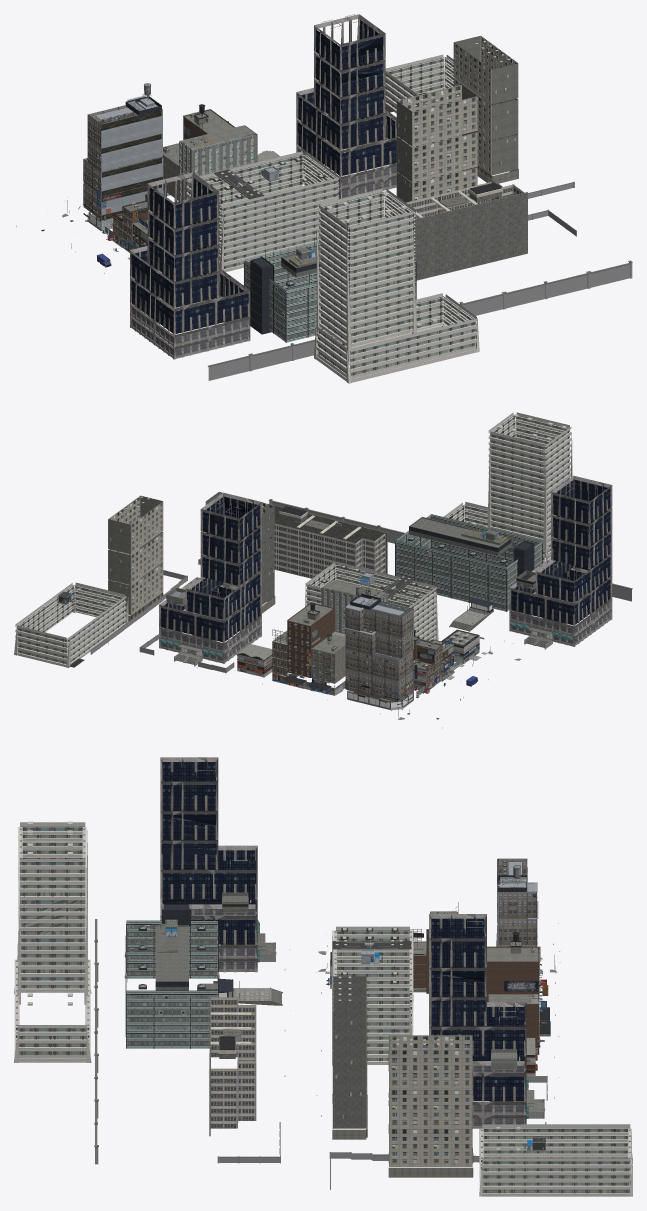
File: block-citya-3.glb
3 views of the same model, one above another, from view 1: azimuth 30°, elevation 25°; view 2: azimuth 150°, elevation 25°; view 3: azimuth 270°, elevation 25° (orthographic). The views are drawn at different scales.
Visible parts, largest first — view 1: Object_143, Object_18, Object_214, Object_94, Object_219, Object_204, Object_175, Object_145, Object_35, Object_79, Object_148, Object_42 (+8 smaller); view 2: Object_143, Object_18, Object_214, Object_35, Object_94, Object_86, Object_204, Object_169, Object_219, Object_52, Object_79, Object_148 (+12 smaller); view 3: Object_143, Object_18, Object_214, Object_219, Object_94, Object_35, Object_169, Object_204, Object_52, Object_86, Object_79, Object_175 (+6 smaller).
Part boxes in pixels (left/top/right/bottom): Object_143: left=186, top=54, right=479, bottom=383; Object_18: left=131, top=20, right=397, bottom=333; Object_214: left=130, top=14, right=397, bottom=359; Object_94: left=88, top=85, right=632, bottom=366; Object_219: left=396, top=35, right=517, bottom=200; Object_204: left=105, top=36, right=518, bottom=249; Object_175: left=156, top=163, right=632, bottom=380; Object_145: left=85, top=95, right=296, bottom=286; Object_35: left=245, top=242, right=415, bottom=342; Object_79: left=125, top=96, right=416, bottom=342; Object_148: left=113, top=116, right=518, bottom=251; Object_42: left=41, top=109, right=325, bottom=243; Object_143: left=14, top=412, right=572, bottom=667; Object_18: left=161, top=480, right=610, bottom=641; Object_214: left=159, top=475, right=612, bottom=663; Object_35: left=396, top=514, right=542, bottom=611; Object_94: left=91, top=492, right=632, bottom=709; Object_86: left=345, top=608, right=413, bottom=708; Object_204: left=108, top=495, right=461, bottom=695; Object_169: left=274, top=511, right=385, bottom=578; Object_219: left=108, top=492, right=274, bottom=615; Object_52: left=272, top=603, right=453, bottom=684; Object_79: left=350, top=517, right=542, bottom=613; Object_148: left=124, top=583, right=441, bottom=695; Object_143: left=14, top=822, right=632, bottom=1196; Object_18: left=161, top=761, right=524, bottom=1101; Object_214: left=160, top=757, right=526, bottom=1128; Object_219: left=332, top=977, right=472, bottom=1166; Object_94: left=94, top=892, right=547, bottom=1183; Object_35: left=126, top=920, right=217, bottom=1048; Object_169: left=210, top=997, right=256, bottom=1128; Object_204: left=389, top=911, right=545, bottom=1166; Object_52: left=413, top=946, right=539, bottom=1054; Object_86: left=497, top=858, right=537, bottom=946; Object_79: left=125, top=875, right=526, bottom=1048; Object_175: left=95, top=942, right=547, bottom=1189.
Bounding box in the file's own units: 70 × 22.68 × 69.88.
Materials: 69 (68 with a texture image).
